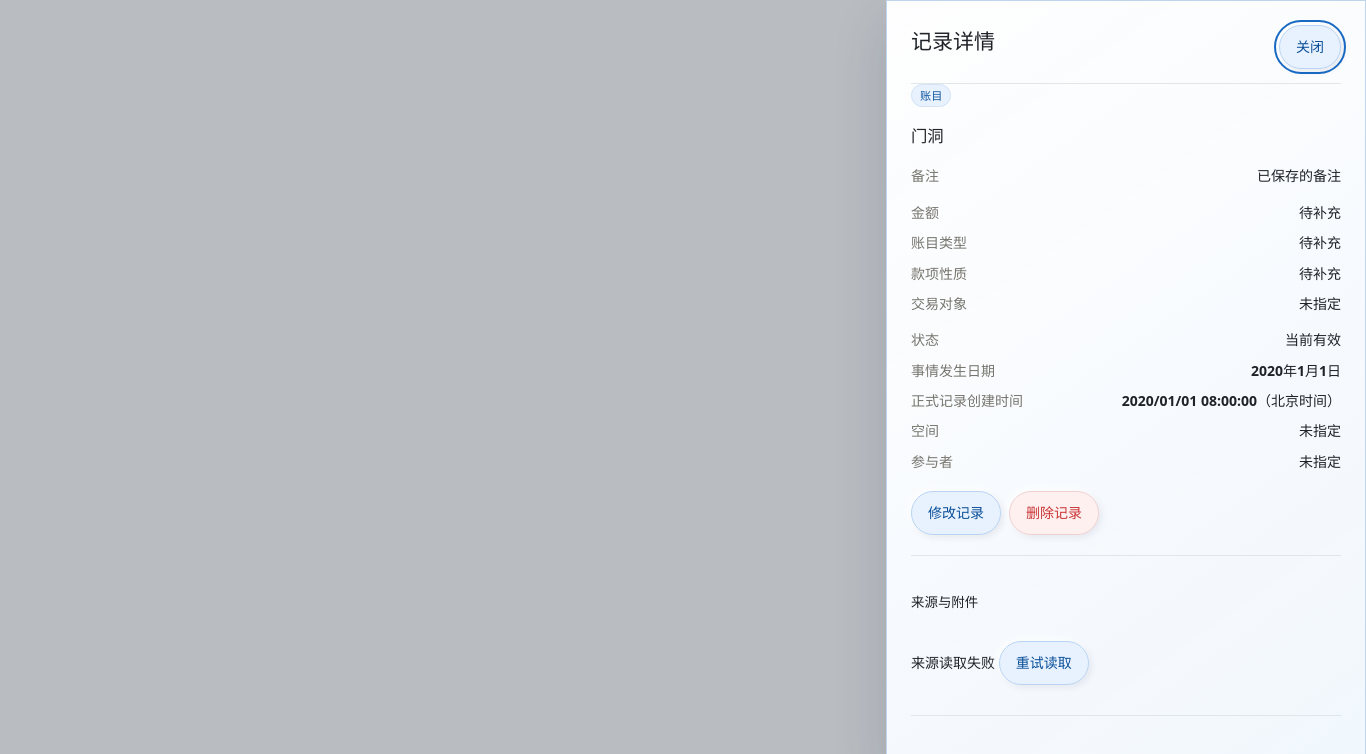
来源失败保留独立重试，备注主体不依赖来源成功
Check: the text "已保存的备注" is shown, box [1257, 165, 1341, 188]
Click the button "重试读取".
click(1044, 664)  # box [999, 642, 1089, 686]
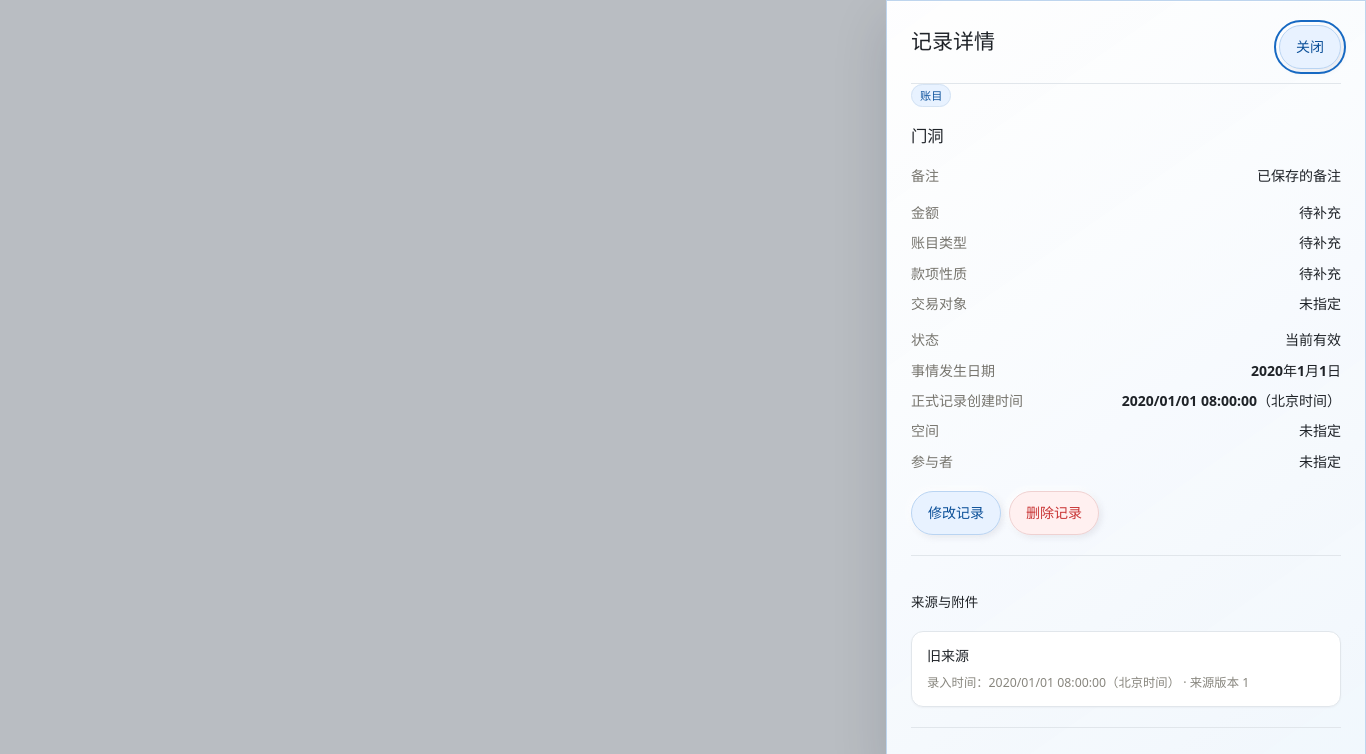
Check: the text "旧来源" is shown, box [927, 646, 969, 666]
Check: the message "来源读取失败 重试读取" is gone
